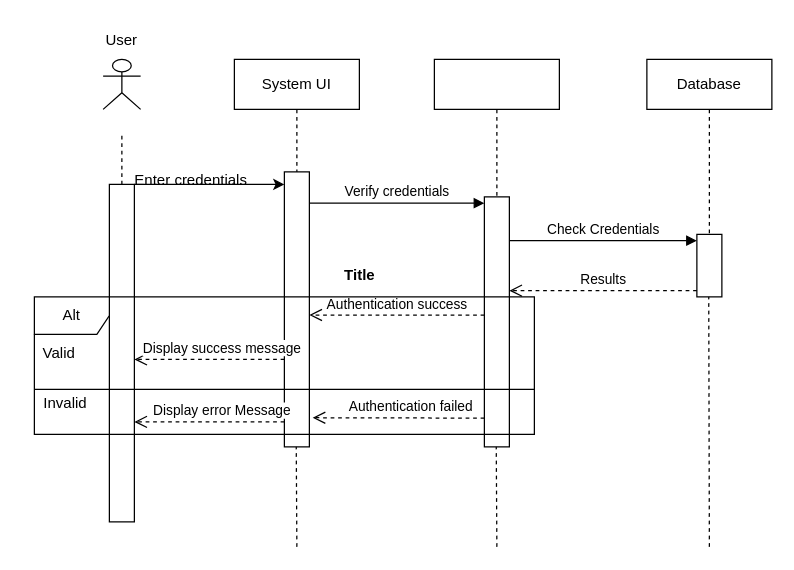
This 794x570 diagram has some shape labels left out. The shapes that lost their labels are listed below. From the top down, each one's centre as x and y in pixels, then its label:
At point 121,83: "Actor".
At point 496,127: "Authentification service".
